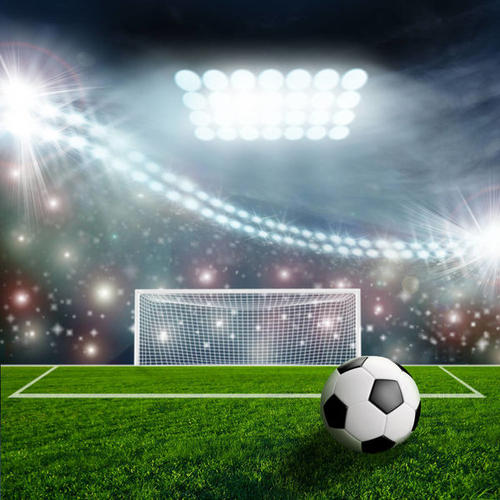football: (308, 349, 427, 449)
